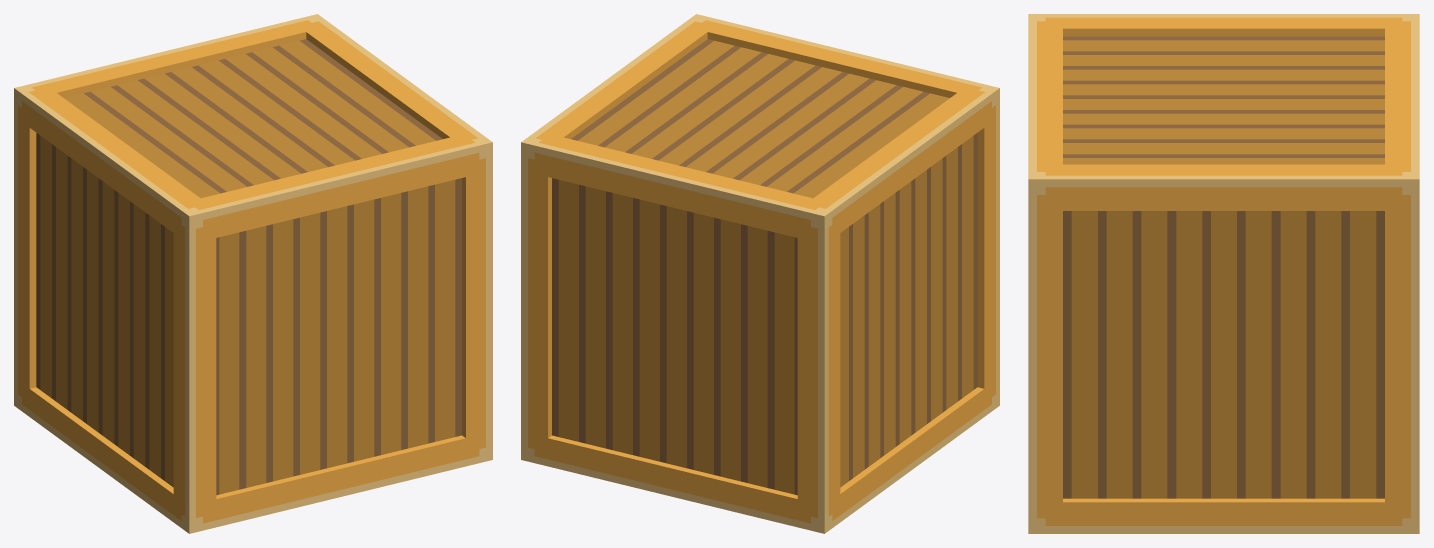
File: CrateBox.obj
The picture shows the model from 3 angles, left to right: view 1: azimuth 30°, elevation 25°; view 2: azimuth 150°, elevation 25°; view 3: azimuth 270°, elevation 25°; orthographic projection. The views are drawn at different scales.
Bounding box in the file's own units: 45 × 45 × 45.
1 material, 1 textured.
